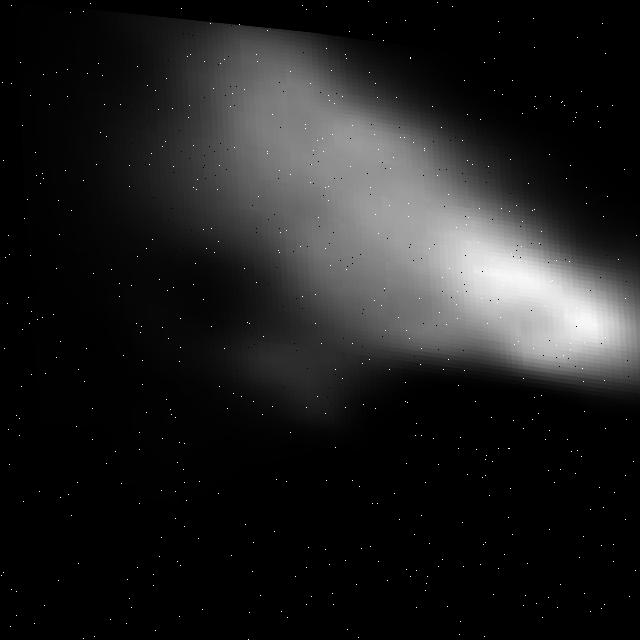person: (1, 1, 640, 458)
